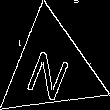N_NE: (25, 37, 77, 100)
